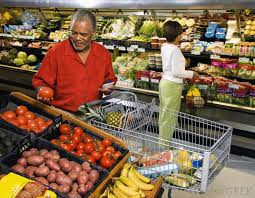Caution: (31, 9, 201, 103)
